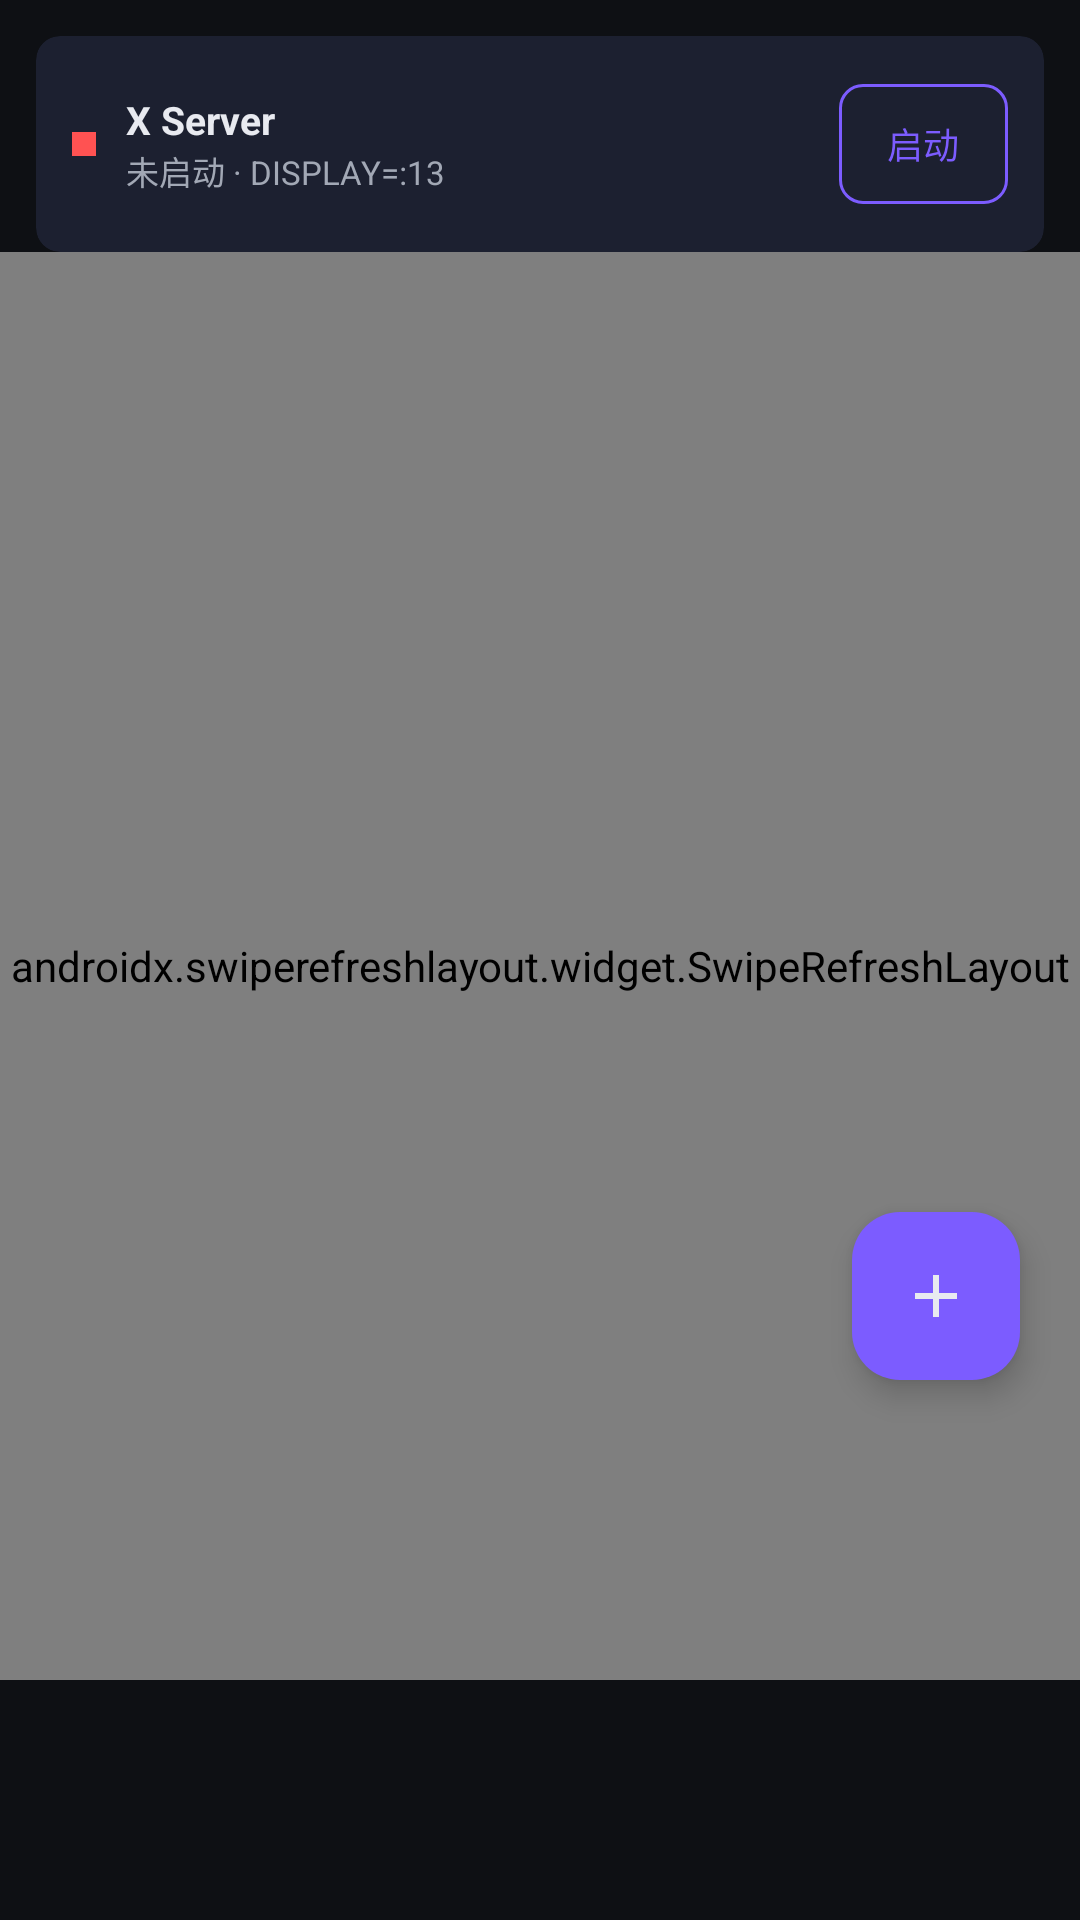

Locate icon controls on the screen. Image size 1080×1920, boxes as (x1, y1, x2, y2).
新建前缀: (852, 1212, 1020, 1380)
